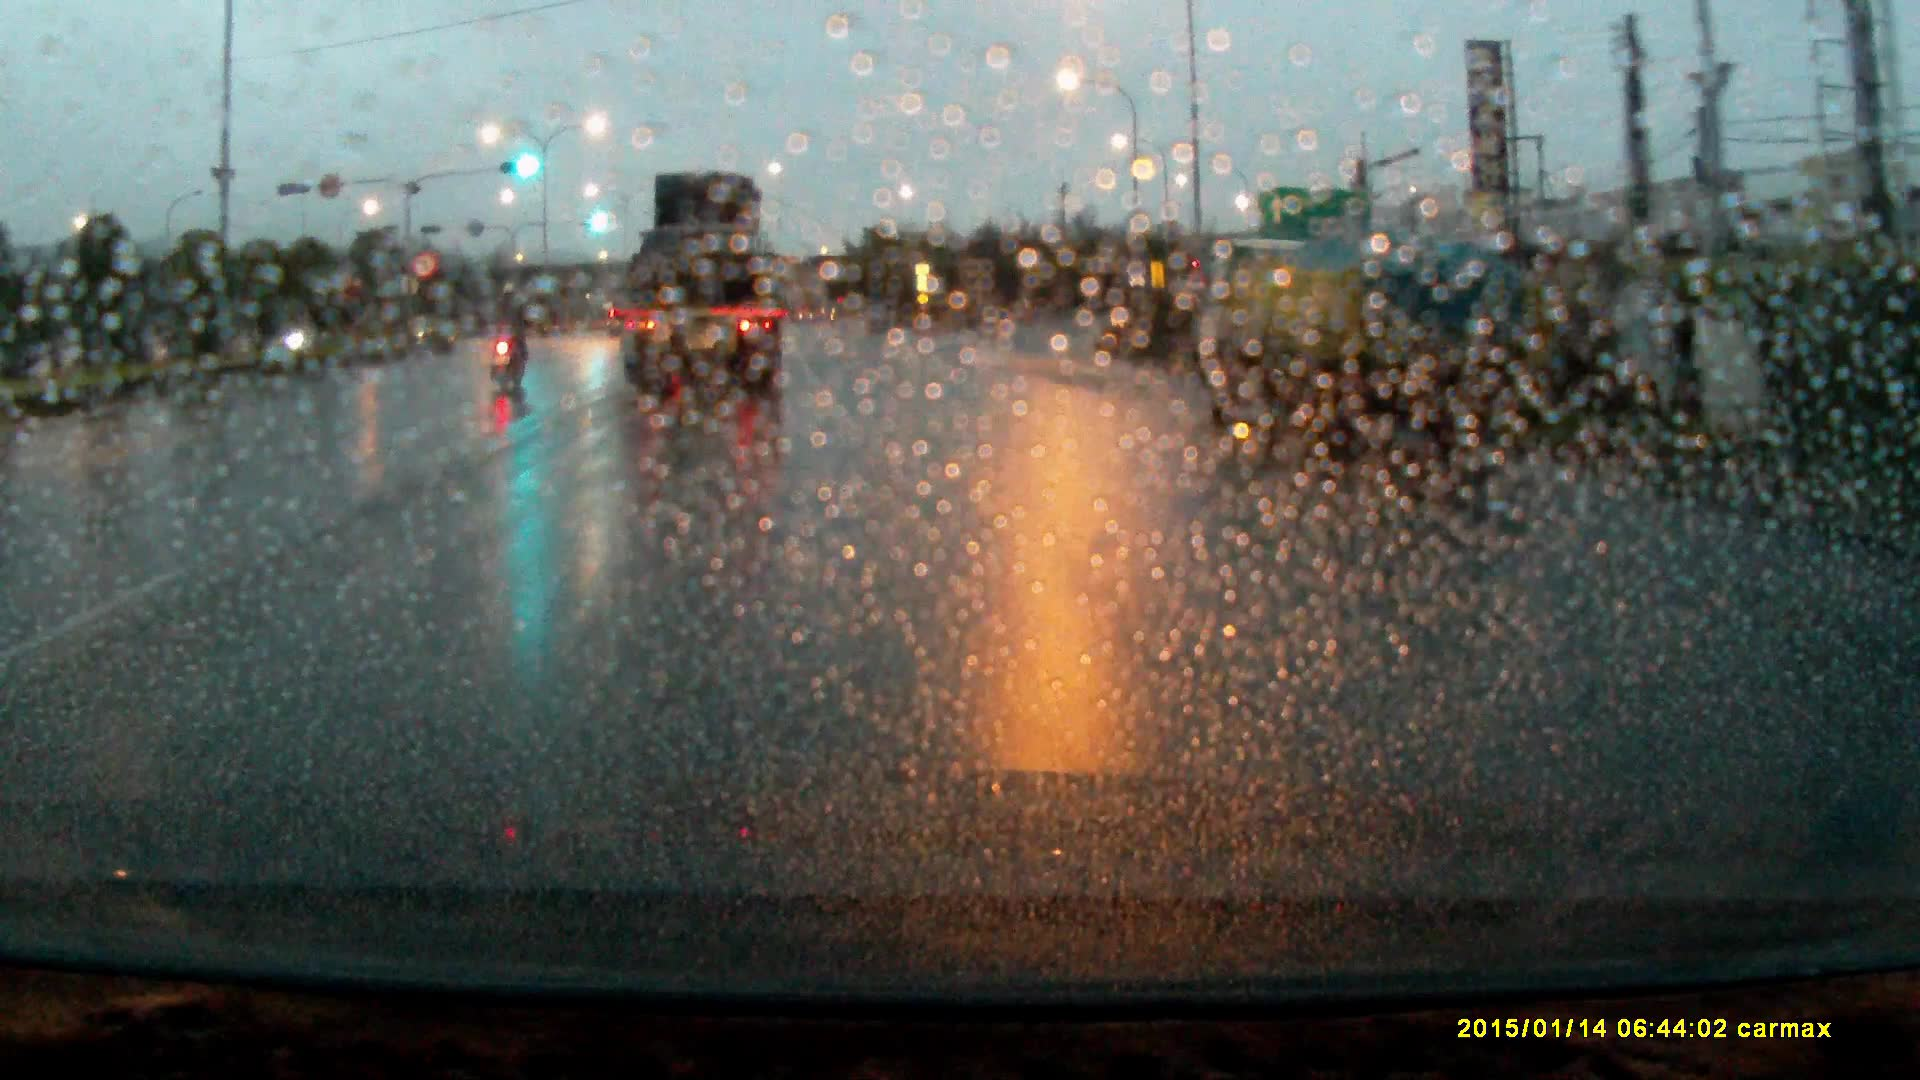rider: (486, 273, 540, 385)
vehicle: (1199, 232, 1536, 457), (618, 170, 786, 399)
